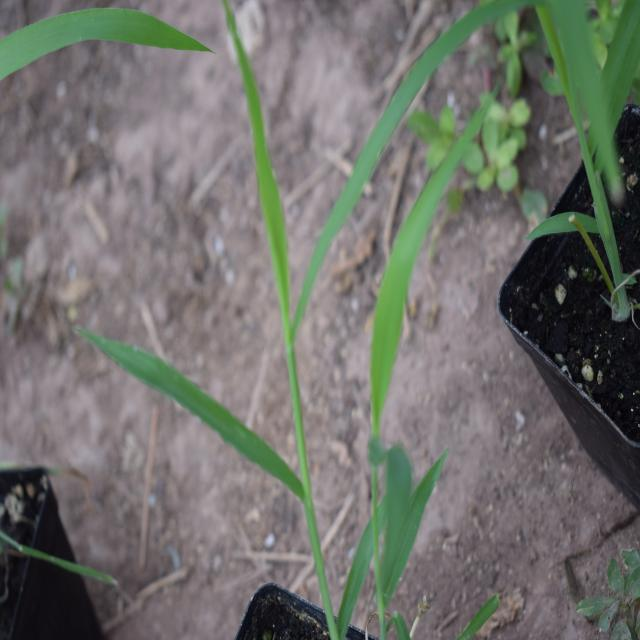crabgrass: (161, 24, 463, 586)
